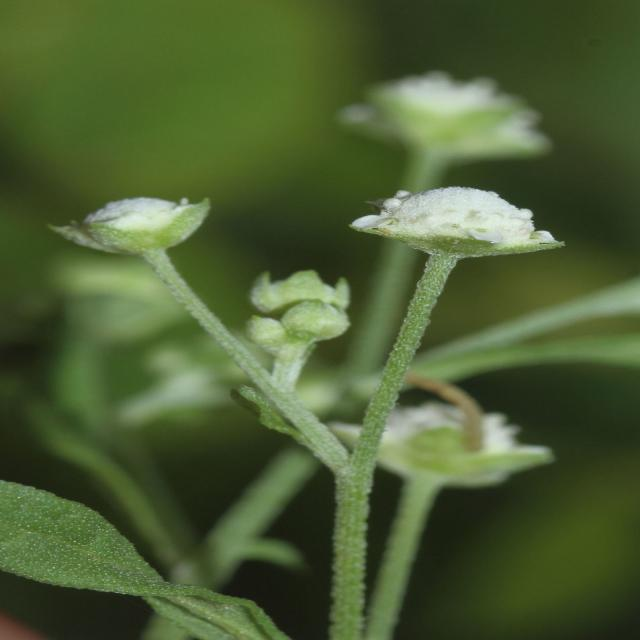Poisonous-Parthenium: (76, 64, 584, 490)
